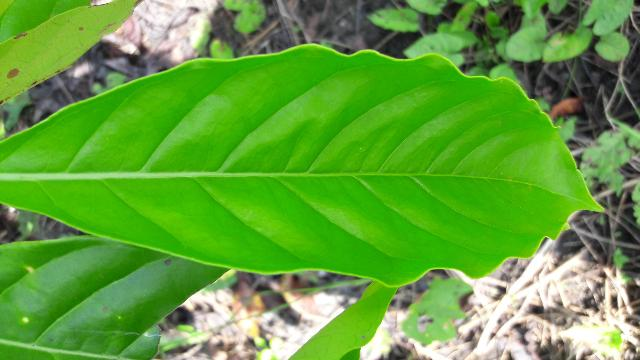healthy: (0, 42, 605, 288)
